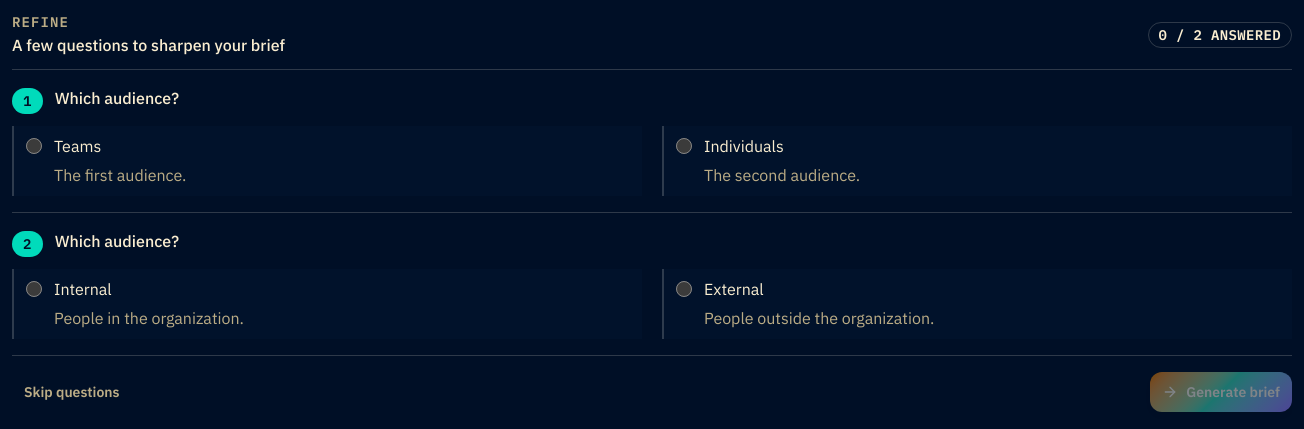
Test: ClarifyingQuestions › tracks questions with duplicate text independently in the UI
Click the radio button labelled "Teams The first audience.". click: (34, 146)
box: x1=26 y1=138 x2=42 y2=154
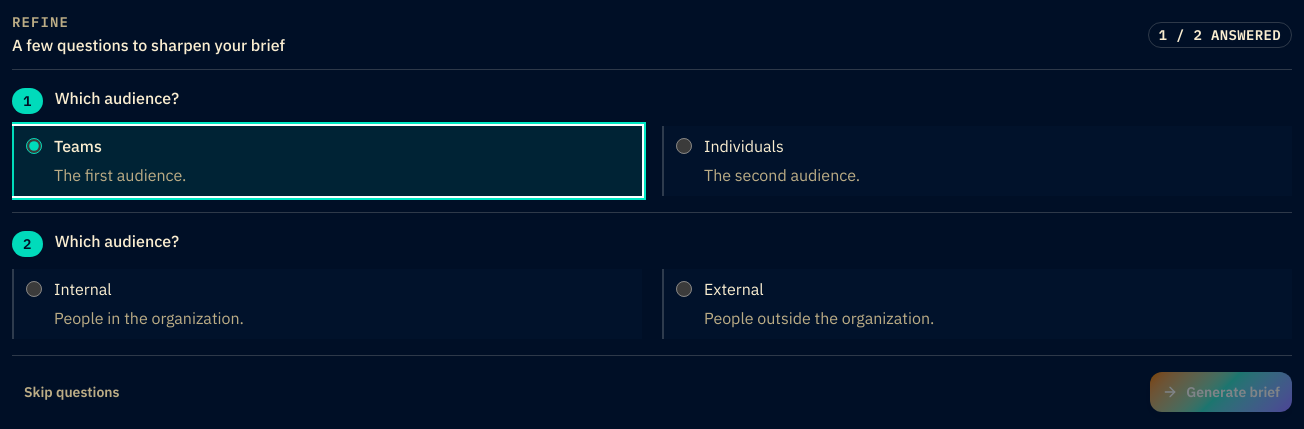
expect the radio button labelled "Internal People in the organization." is not checked: met, box x1=26 y1=281 x2=42 y2=297
expect the radio button labelled "Teams The first audience." is checked: met, box x1=26 y1=138 x2=42 y2=154
expect the text "1 / 2 answered" is shown: met, box x1=1148 y1=22 x2=1292 y2=48
